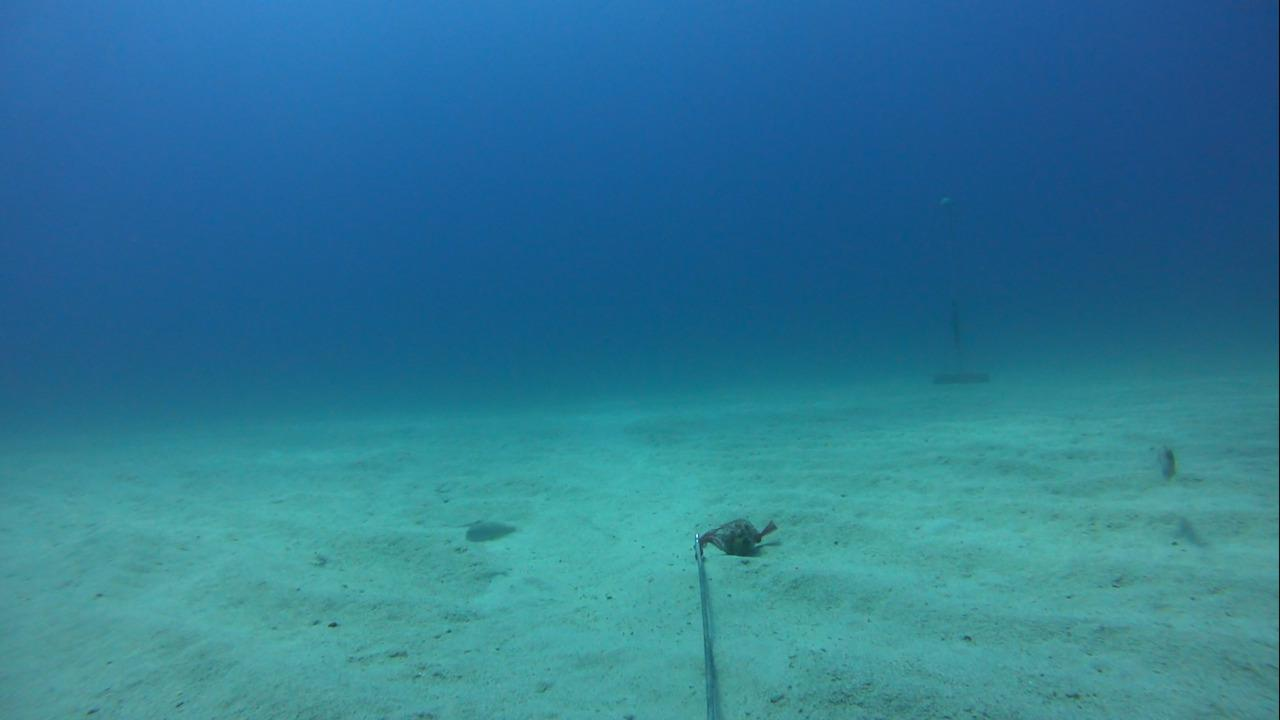raor: (456, 508, 520, 549), (1139, 438, 1186, 488)
